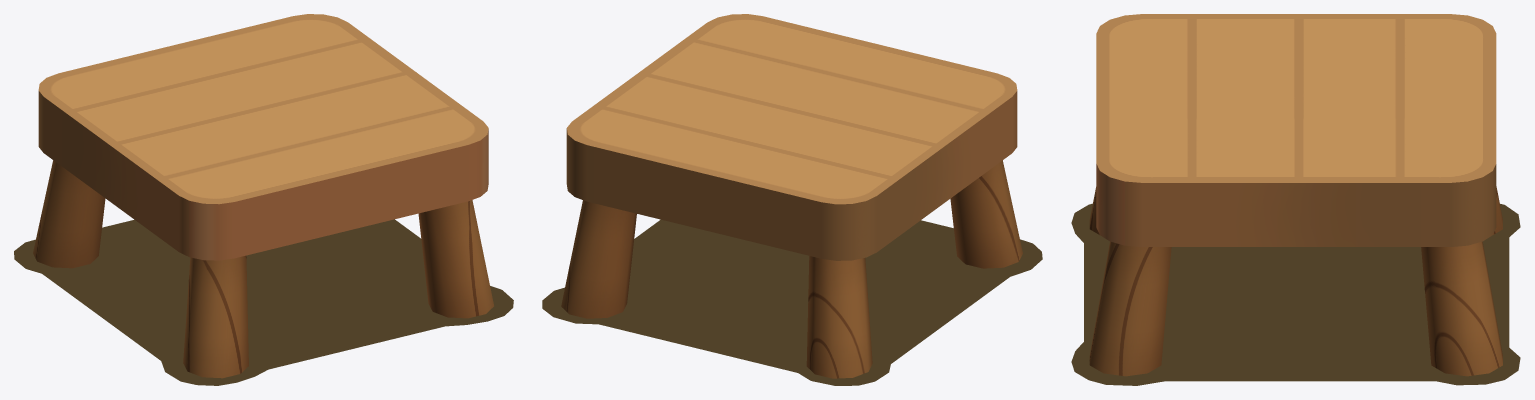
The model's file is Mu_table.fbx.
3 views of the same model, side by side, from view 1: azimuth 30°, elevation 25°; view 2: azimuth 150°, elevation 25°; view 3: azimuth 270°, elevation 25° (orthographic). The views are drawn at different scales.
Visible parts, largest first — view 1: Mu_TinyTable_a, Mu_TinyTable_shadow; view 2: Mu_TinyTable_a, Mu_TinyTable_shadow; view 3: Mu_TinyTable_a, Mu_TinyTable_shadow.
Boxes of the visible parts, x1,y1,x2,y2 form: Mu_TinyTable_a: (33, 14, 493, 378); Mu_TinyTable_shadow: (14, 219, 513, 385); Mu_TinyTable_a: (561, 14, 1022, 378); Mu_TinyTable_shadow: (542, 219, 1042, 385); Mu_TinyTable_a: (1089, 14, 1502, 376); Mu_TinyTable_shadow: (1071, 203, 1520, 385).
Size of the model in its own units: 169 by 81.59 by 171.
